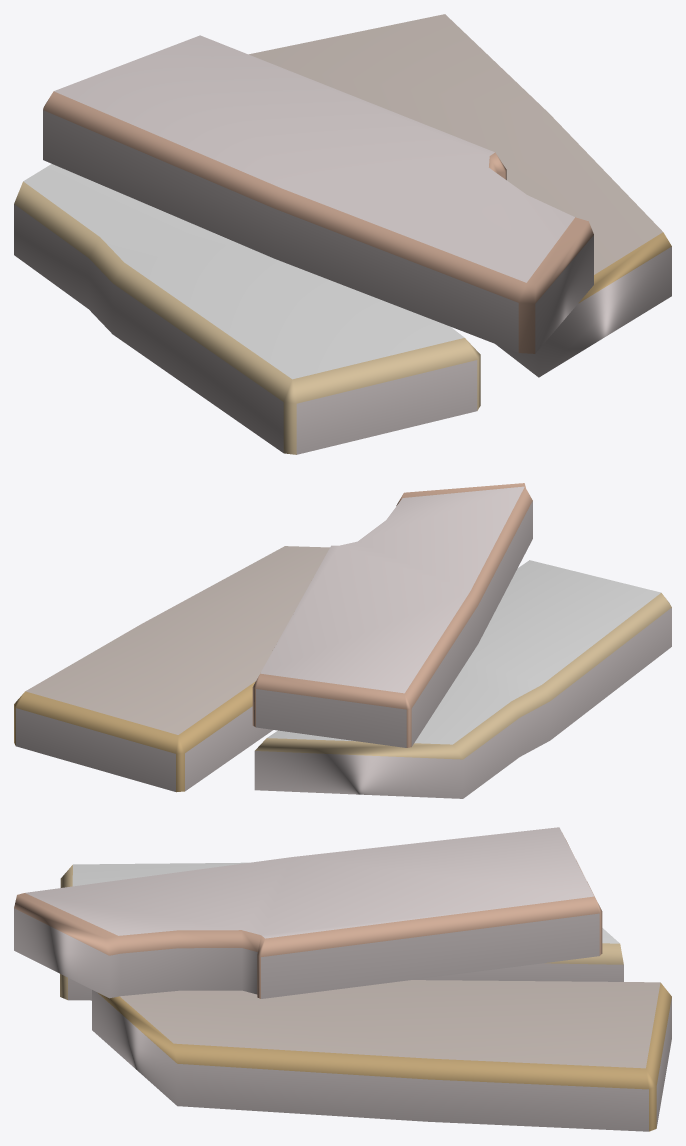
File: threeBoards.glb
3 views of the same model, one above another, from view 1: azimuth 30°, elevation 25°; view 2: azimuth 150°, elevation 25°; view 3: azimuth 270°, elevation 25° (orthographic). The views are drawn at different scales.
Parts seen in each view (by area): view 1: threeBoards; view 2: threeBoards; view 3: threeBoards.
Part boxes in pixels (x1=…): threeBoards: x1=14, y1=14, x2=671, y2=454; threeBoards: x1=14, y1=483, x2=671, y2=798; threeBoards: x1=14, y1=827, x2=671, y2=1131.
Size of the model in its own units: 0.8492 by 0.2128 by 1.09.
